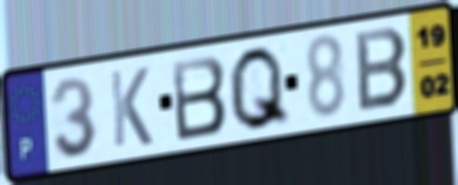3: (47, 72, 100, 162)
8: (302, 31, 347, 124)
B: (169, 52, 230, 144), (353, 25, 411, 115)
K: (107, 64, 155, 151)
Q: (226, 42, 294, 134)
